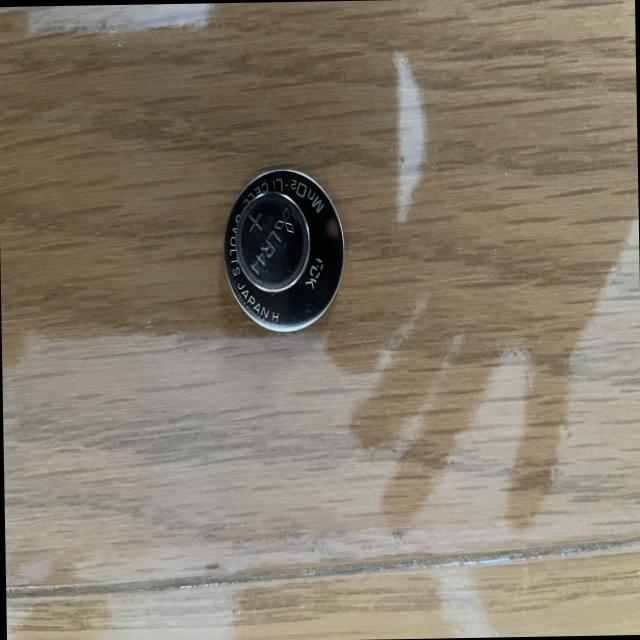COIN: (216, 166, 350, 334), (232, 188, 310, 292)
